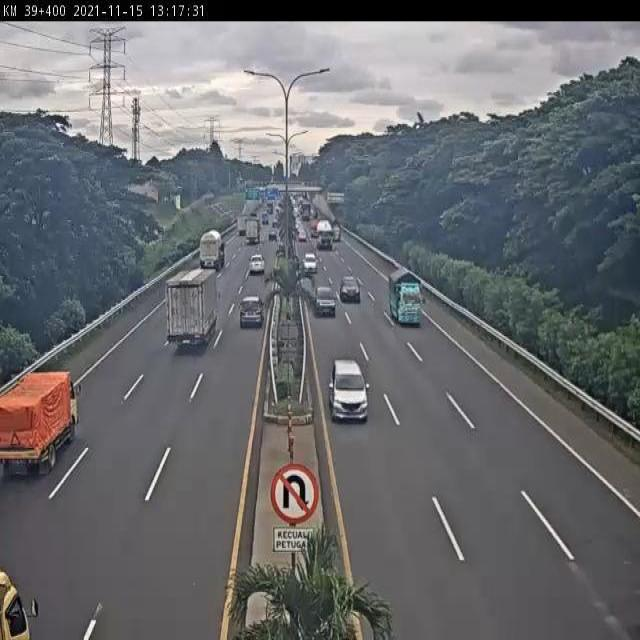ARABA: (237, 295, 266, 329), (312, 284, 337, 317), (338, 274, 362, 302), (246, 250, 269, 278), (302, 249, 319, 276)
KAMYONET: (1, 371, 82, 477), (163, 267, 223, 353), (386, 265, 424, 328)
TIR: (198, 227, 226, 272)
